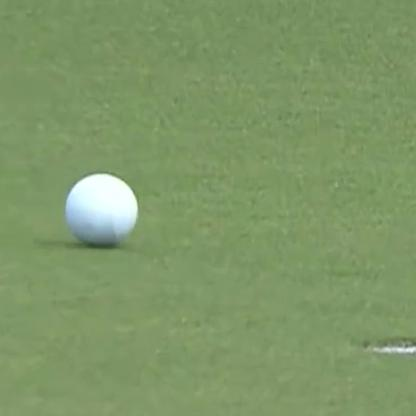golfball: (64, 165, 135, 242)
